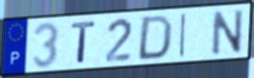2: (104, 16, 135, 64)
3: (32, 18, 63, 71)
D: (135, 13, 175, 62)
I: (178, 11, 188, 59)
N: (211, 7, 245, 57)
T: (70, 20, 97, 65)
